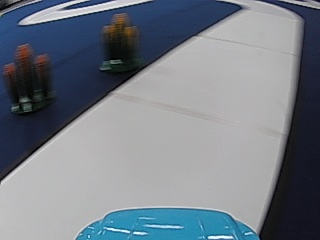corn: (4, 40, 54, 116), (99, 11, 139, 75)
